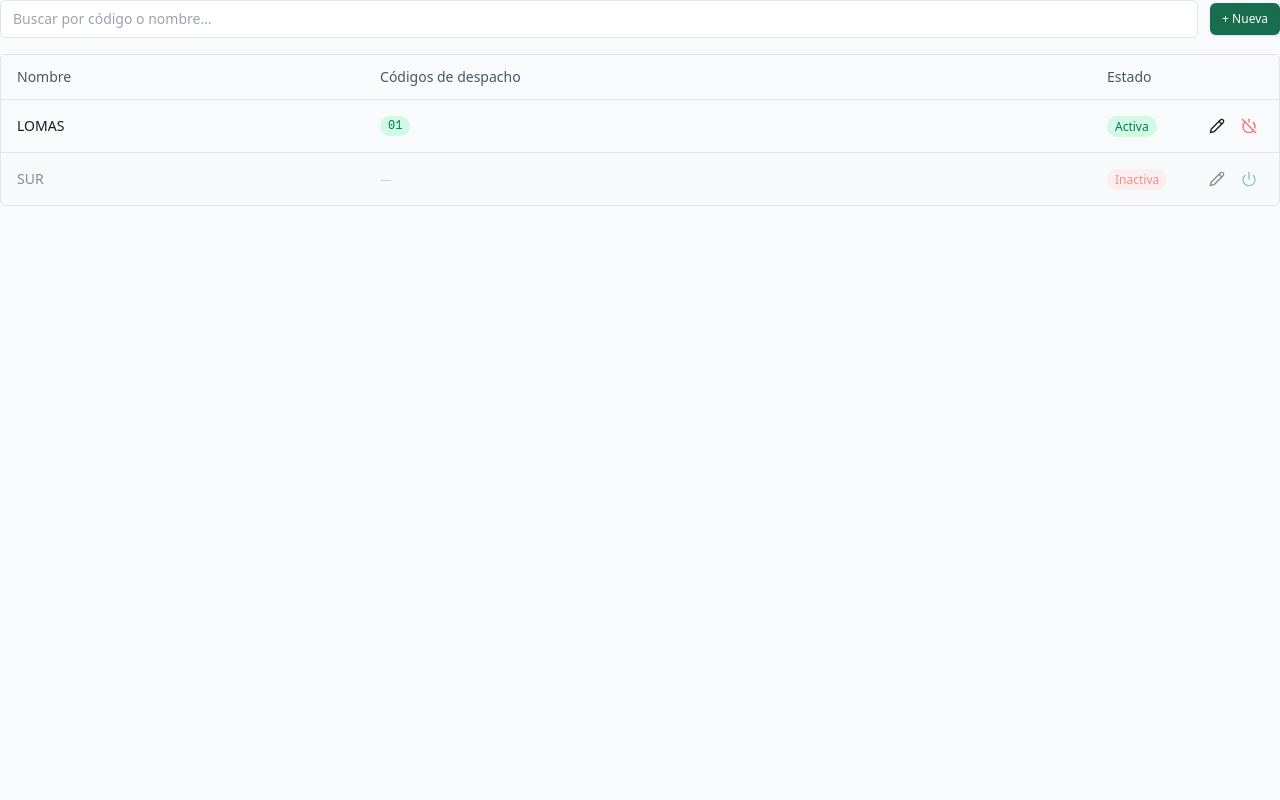
Test: ZonasTab › el lápiz abre el modal de edición con la zona
What coordinates should you click on to do the following:
click the button titled "Editar" in the row of "LOMAS"
I would click on:
 (1217, 126)
Its box is [1203,112,1231,140].
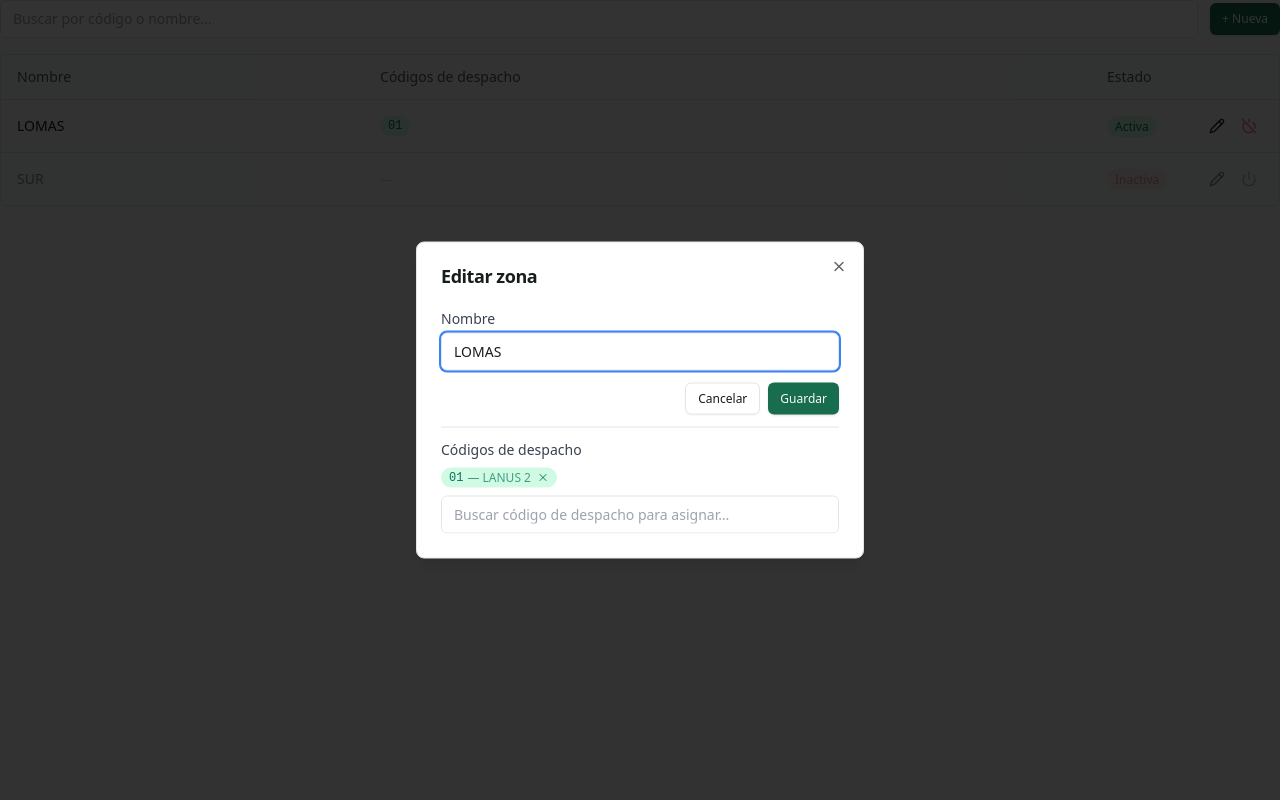
Now the heading "Editar zona" is shown, box [441,264,537,288]
Now the field showing "LOMAS" is shown, box [441,332,839,370]
